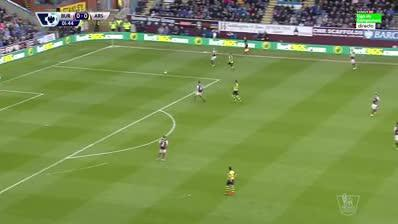futbol: (162, 69, 170, 76)
player: (222, 164, 240, 200), (155, 133, 171, 164), (230, 78, 245, 105), (191, 79, 207, 103), (368, 92, 382, 119), (347, 50, 360, 71), (390, 120, 397, 154), (225, 50, 236, 71), (208, 47, 218, 69)
